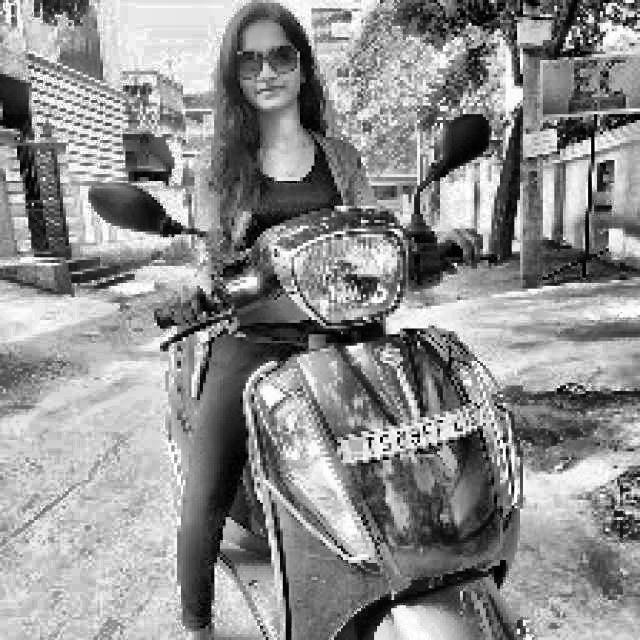motorcycle: (92, 110, 603, 640)
